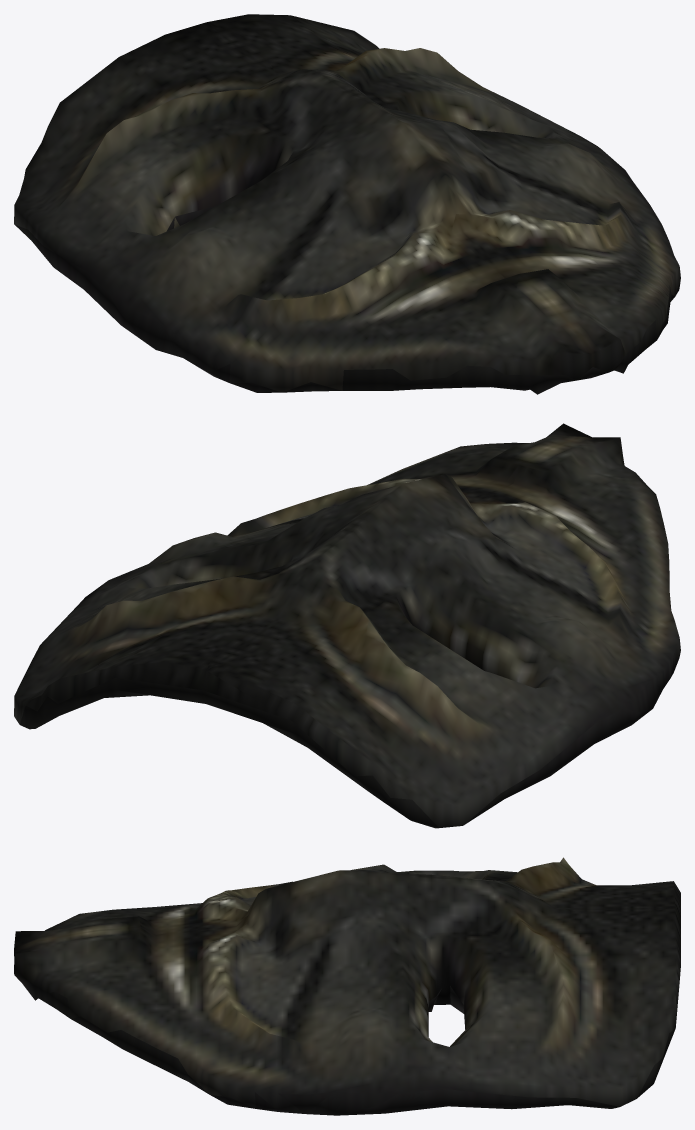
File: mask_2.obj
The picture shows the model from 3 angles, top to bottom: view 1: azimuth 30°, elevation 25°; view 2: azimuth 150°, elevation 25°; view 3: azimuth 270°, elevation 25°; orthographic projection. The views are drawn at different scales.
Parts seen in each view (by area): view 1: mask_2; view 2: mask_2; view 3: mask_2.
Boxes of the visible parts, x1,y1,x2,y2 form: mask_2: (14,14,680,394); mask_2: (14,423,680,828); mask_2: (14,857,680,1115).
Size of the model in its own units: 0.2319 by 0.0743 by 0.3044.
